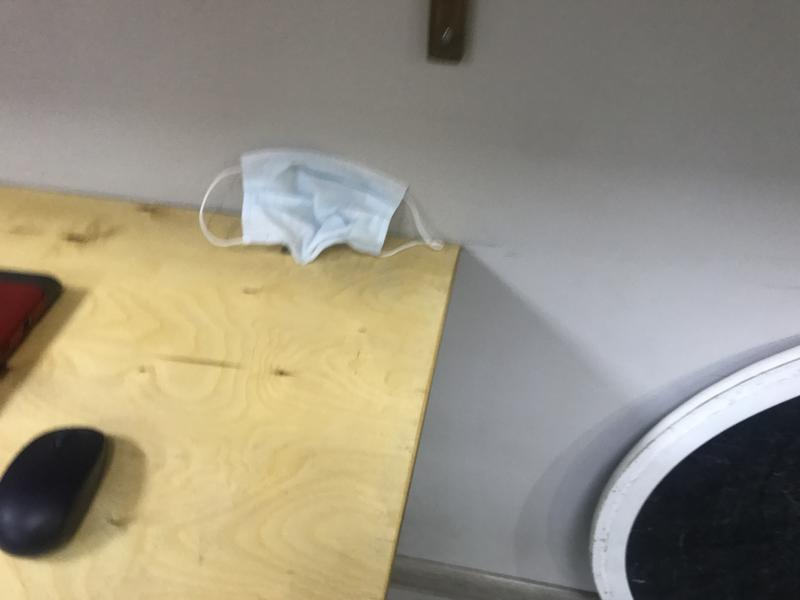medical_mask: (199, 151, 445, 264)
